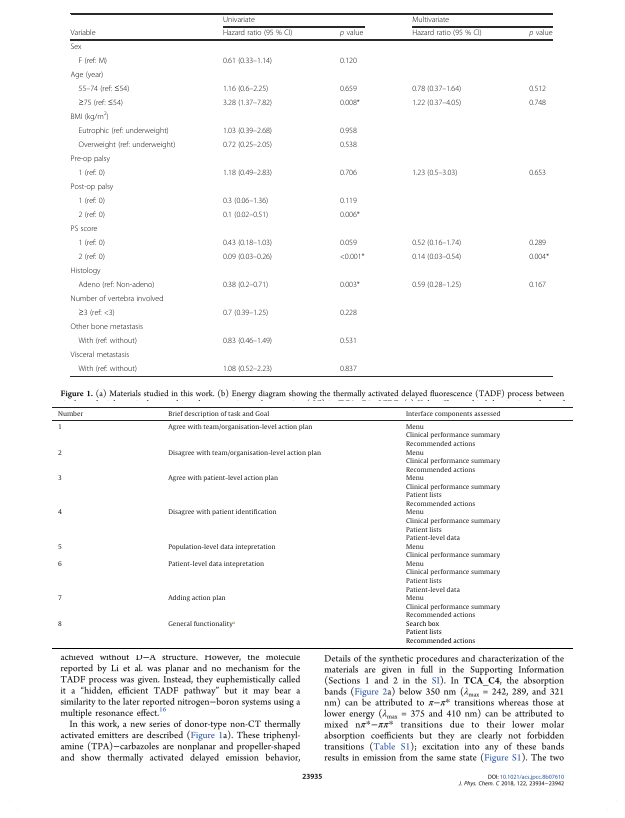borderless: (69, 12, 553, 376), (51, 406, 573, 648)
cell: (404, 475, 500, 509), (404, 509, 500, 543), (404, 561, 500, 595), (404, 449, 500, 475), (404, 424, 500, 449), (404, 595, 500, 620), (404, 621, 476, 646), (404, 543, 500, 560), (167, 449, 321, 458), (167, 424, 313, 432), (77, 140, 176, 150), (167, 509, 277, 518), (167, 543, 276, 552), (70, 294, 164, 304), (77, 126, 170, 136), (167, 410, 270, 419), (167, 475, 278, 483), (404, 410, 501, 419), (77, 280, 155, 290), (167, 561, 264, 569), (70, 322, 144, 332), (411, 29, 483, 39), (222, 29, 293, 39), (167, 620, 236, 629), (77, 336, 138, 346), (77, 364, 138, 374), (70, 350, 130, 360), (77, 84, 130, 94), (222, 56, 273, 66), (411, 84, 462, 94), (222, 98, 273, 108), (411, 98, 462, 108), (222, 126, 273, 136), (222, 140, 273, 150), (222, 168, 273, 178), (222, 238, 273, 248), (411, 238, 462, 248), (222, 252, 273, 262), (411, 252, 462, 262), (411, 280, 462, 290), (222, 336, 273, 346), (222, 364, 273, 374), (167, 595, 226, 603), (222, 84, 269, 94), (77, 98, 124, 108), (411, 168, 458, 178), (222, 196, 269, 206), (222, 210, 269, 220), (222, 280, 269, 290), (222, 308, 269, 318), (70, 111, 110, 122), (70, 182, 114, 192), (70, 154, 111, 164), (77, 308, 116, 318), (411, 16, 450, 25), (70, 70, 104, 80), (77, 56, 108, 66), (70, 266, 101, 276), (222, 16, 256, 25), (77, 168, 106, 178), (77, 196, 106, 206), (77, 210, 106, 220), (77, 238, 106, 248), (77, 252, 106, 262), (70, 224, 98, 234), (339, 252, 366, 262), (70, 29, 96, 39), (56, 410, 84, 419), (339, 29, 364, 39), (528, 29, 553, 39), (339, 98, 361, 108), (339, 210, 361, 220), (528, 252, 550, 262), (339, 280, 361, 290), (339, 56, 358, 66), (339, 84, 358, 94), (528, 84, 547, 94), (528, 98, 547, 108), (339, 126, 358, 136), (339, 140, 358, 150), (339, 168, 358, 178), (528, 168, 547, 178), (339, 196, 358, 206), (339, 238, 358, 248), (528, 238, 547, 248), (528, 280, 547, 290), (339, 308, 358, 318), (339, 336, 358, 346), (339, 364, 358, 374), (70, 42, 82, 52), (56, 449, 62, 458), (56, 509, 62, 518), (56, 543, 62, 552), (56, 424, 62, 432), (56, 475, 62, 483), (56, 561, 62, 569), (56, 595, 62, 603), (56, 621, 62, 629)
